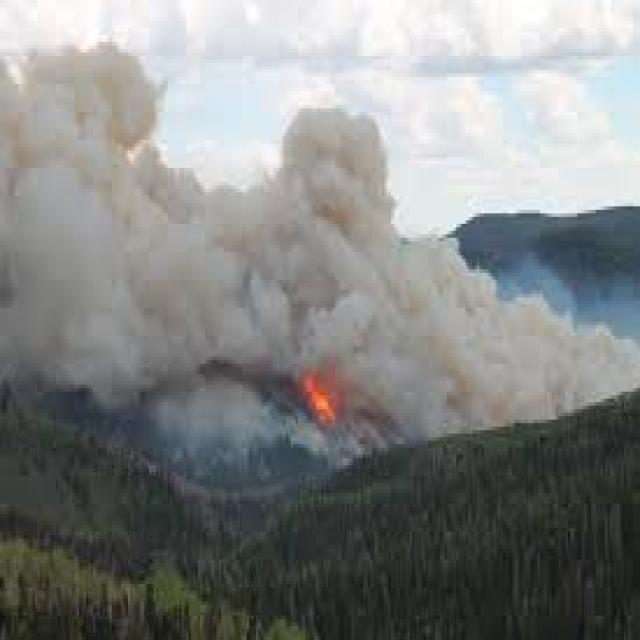Fire: (297, 365, 344, 427)
Smoke: (0, 27, 640, 441)
